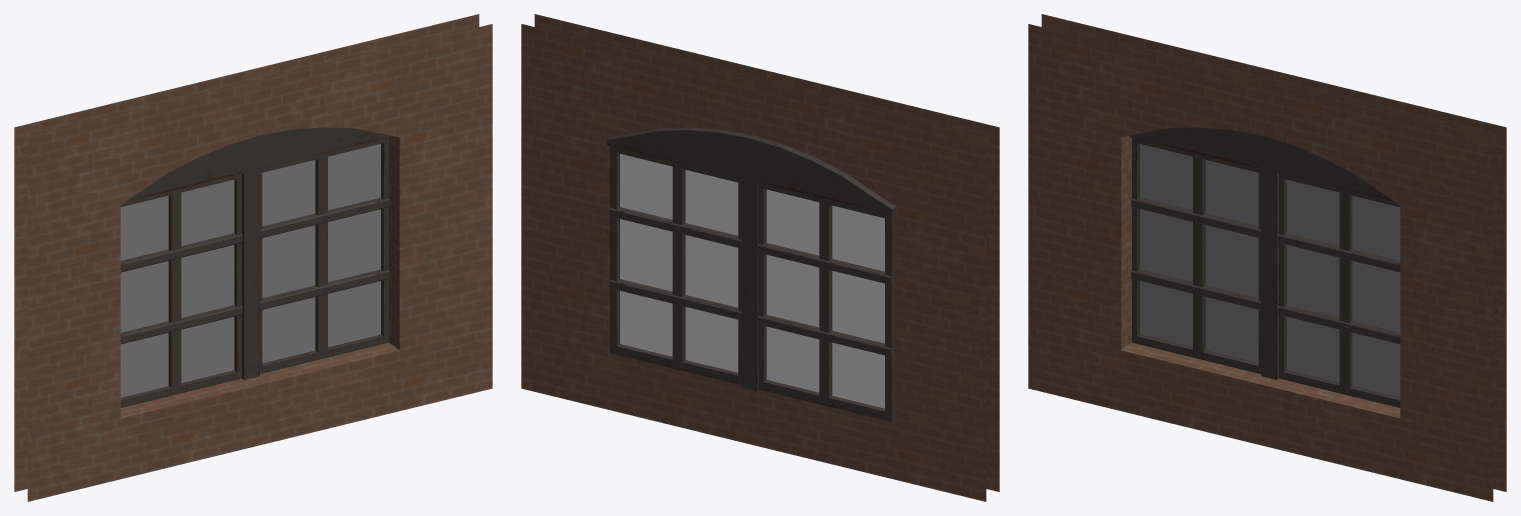
File: Brick_Window_CurvedDouble.gltf
The picture shows the model from 3 angles, left to right: view 1: azimuth 30°, elevation 25°; view 2: azimuth 150°, elevation 25°; view 3: azimuth 330°, elevation 25°; orthographic projection.
Visible parts, largest first — view 1: Brick_Window_CurvedDouble; view 2: Brick_Window_CurvedDouble; view 3: Brick_Window_CurvedDouble.
Boxes of the visible parts, x1,y1,x2,y2 form: Brick_Window_CurvedDouble: (14,14,492,501); Brick_Window_CurvedDouble: (521,14,999,501); Brick_Window_CurvedDouble: (1028,14,1506,501).
Bounding box in the file's own units: 4 × 3 × 0.2605.
5 materials, 3 textured.
